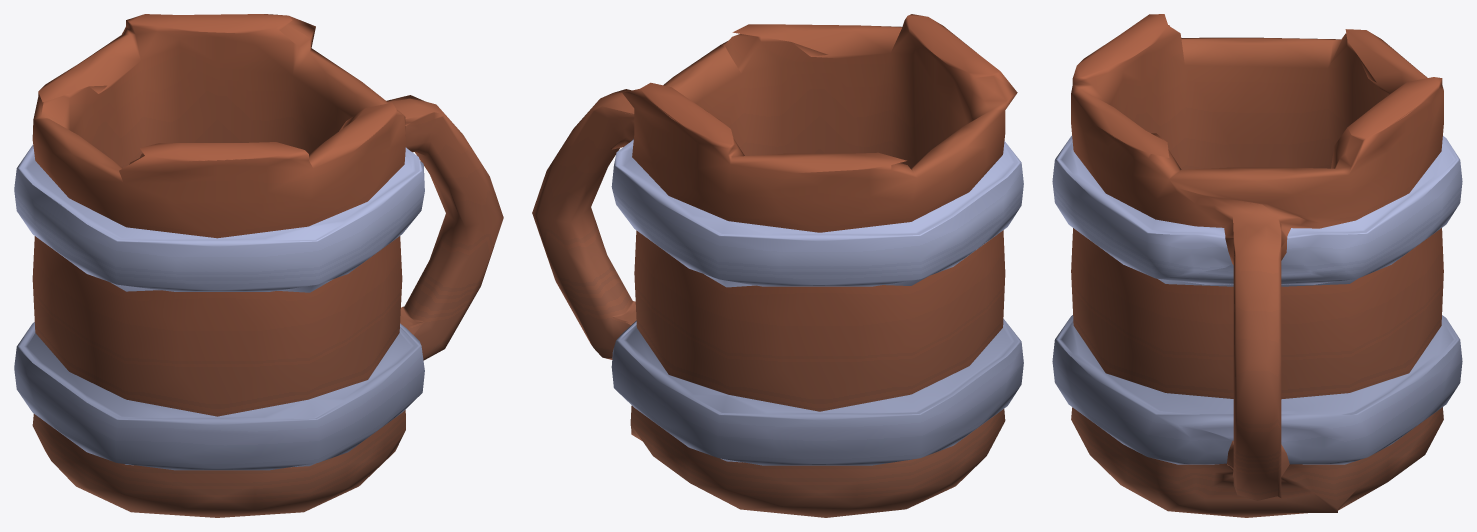
The picture shows the model from 3 angles, left to right: view 1: azimuth 30°, elevation 25°; view 2: azimuth 150°, elevation 25°; view 3: azimuth 270°, elevation 25°; orthographic projection.
Size of the model in its own units: 0.9804 by 0.7955 by 0.7778.
1 material, 1 textured.
